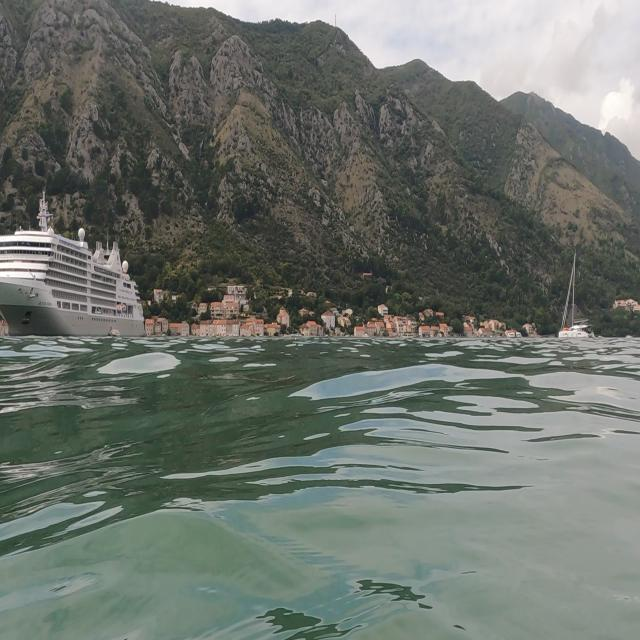boat: (1, 184, 148, 341), (552, 242, 602, 367)
